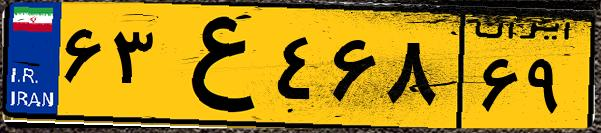3: (110, 28, 158, 98)
4: (270, 28, 330, 110)
6: (330, 28, 385, 110), (57, 26, 110, 100), (475, 38, 525, 113)
8: (385, 28, 445, 110)
9: (525, 38, 570, 115)
ع: (158, 12, 270, 120)
